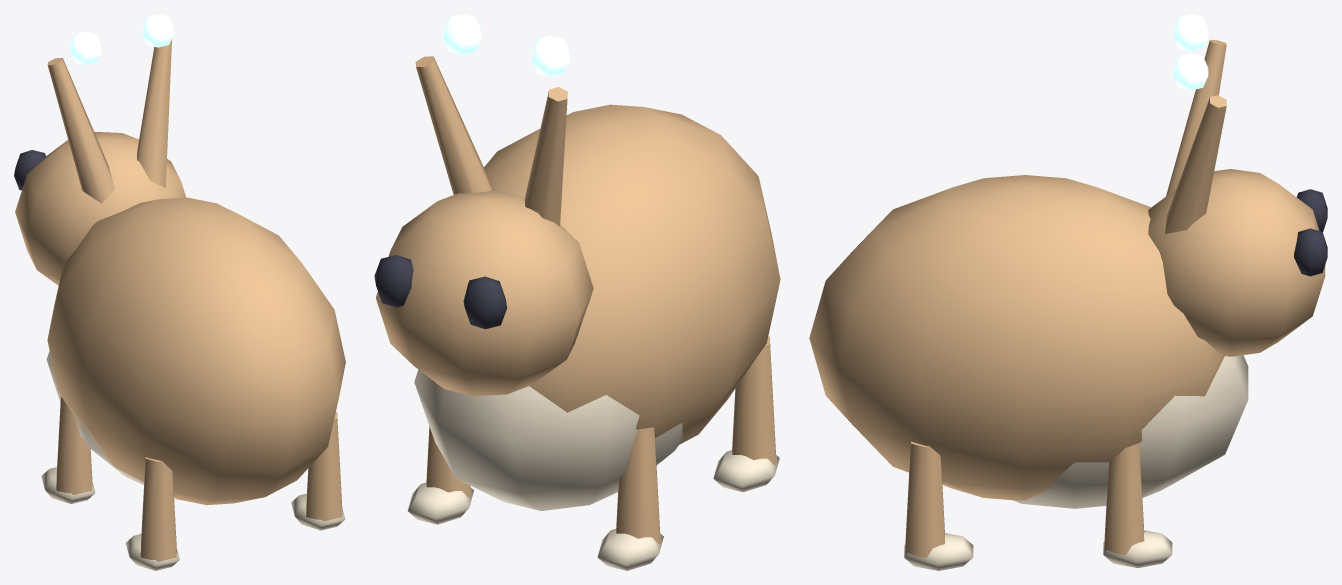
Rendered from creature_hopper.glb.
3 views of the same model, side by side, from view 1: azimuth 30°, elevation 25°; view 2: azimuth 150°, elevation 25°; view 3: azimuth 270°, elevation 25° (orthographic). The views are drawn at different scales.
Parts seen in each view (by area): view 1: hopper_body, LegBL_m, LegBR_m, LegFL_m; view 2: hopper_body, LegBL_m, LegFL_m, LegFR_m; view 3: hopper_body, LegBR_m, LegFR_m.
Part boxes in pixels (x1,y1,x2,y2): hopper_body: [14, 14, 345, 505]; LegBL_m: [125, 457, 179, 570]; LegBR_m: [291, 412, 345, 530]; LegFL_m: [41, 396, 95, 503]; hopper_body: [374, 14, 780, 510]; LegBL_m: [713, 336, 779, 492]; LegFL_m: [597, 427, 663, 570]; LegFR_m: [408, 426, 473, 524]; hopper_body: [809, 14, 1327, 508]; LegBR_m: [904, 441, 973, 570]; LegFR_m: [1103, 443, 1172, 567].
Bounding box in the file's own units: 0.9 × 1.62 × 1.56.
